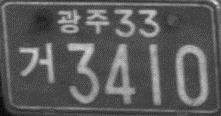0: (174, 44, 210, 106)
1: (146, 42, 165, 107)
3: (64, 40, 100, 104), (113, 7, 136, 38), (137, 8, 160, 37)
4: (102, 42, 136, 105)
거: (16, 41, 56, 85)
광주_O: (56, 7, 110, 36)
